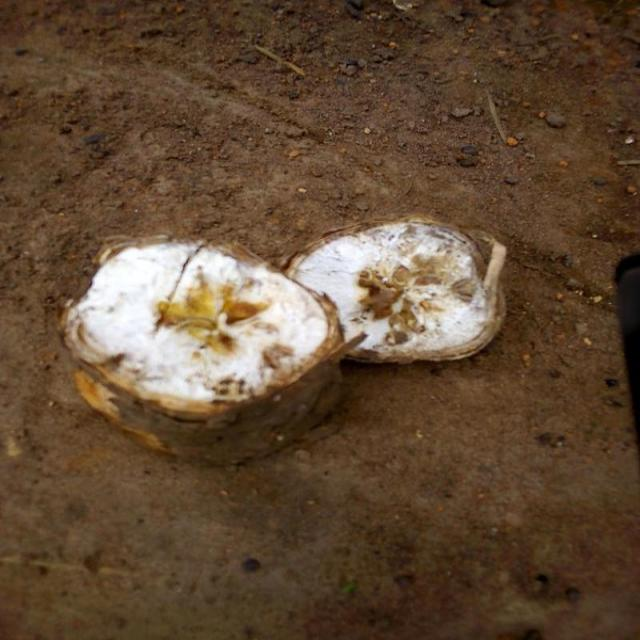cassava leaf: (60, 233, 349, 465), (282, 213, 508, 365)
